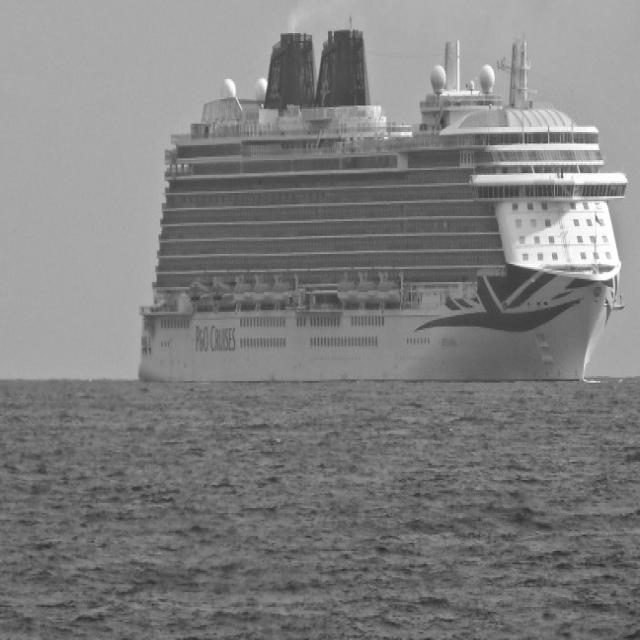cruises: (134, 19, 633, 394)
